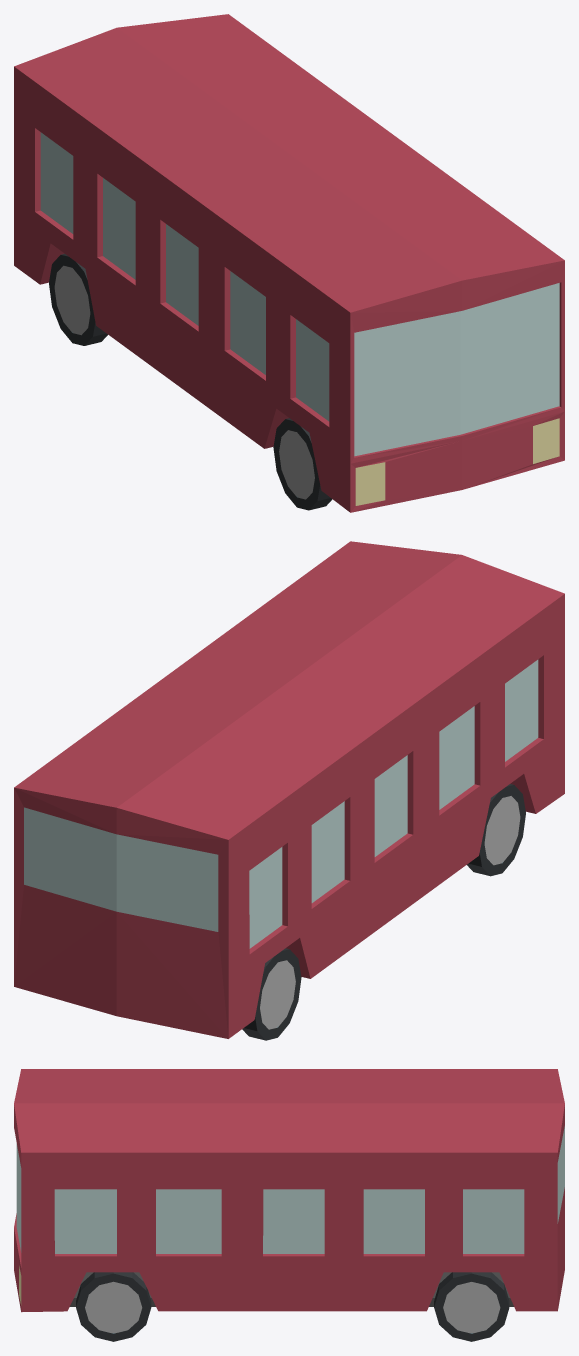
Rendered from Onibus.FBX.
The picture shows the model from 3 angles, top to bottom: view 1: azimuth 30°, elevation 25°; view 2: azimuth 150°, elevation 25°; view 3: azimuth 270°, elevation 25°; orthographic projection. The views are drawn at different scales.
Parts seen in each view (by area): view 1: Onibus; view 2: Onibus; view 3: Onibus.
Boxes of the visible parts, x1,y1,x2,y2 form: Onibus: (14, 14, 564, 512); Onibus: (14, 541, 564, 1040); Onibus: (14, 1069, 564, 1341).
Size of the model in its own units: 78.2 by 86.28 by 218.
